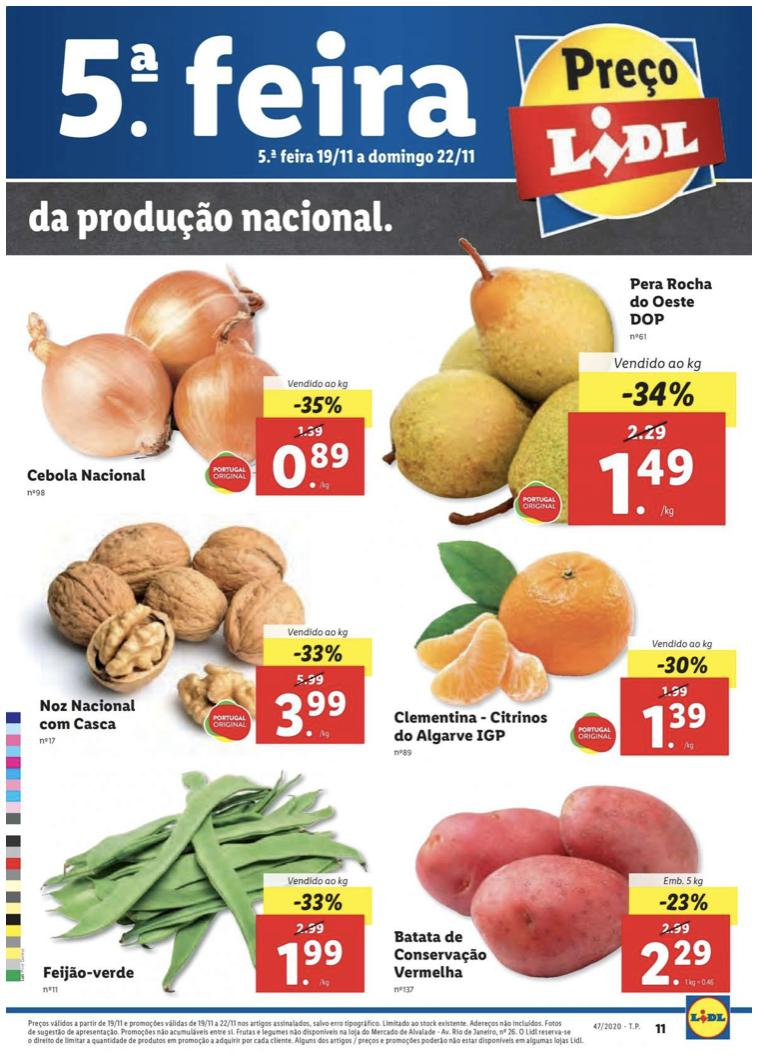name: (391, 707, 555, 746), (389, 923, 491, 979), (627, 272, 723, 327), (19, 461, 150, 488), (41, 962, 143, 983)
price: (598, 446, 702, 520), (275, 932, 350, 991), (268, 686, 348, 740), (271, 440, 354, 491), (635, 936, 710, 991), (639, 700, 714, 752)
product: (388, 257, 747, 529), (10, 257, 380, 513), (33, 752, 376, 1007), (385, 534, 738, 779), (16, 520, 376, 754), (383, 779, 738, 1000)
promotion: (621, 377, 694, 409), (287, 887, 350, 917), (651, 650, 713, 679), (287, 638, 348, 666), (287, 391, 348, 417), (654, 890, 713, 913)
